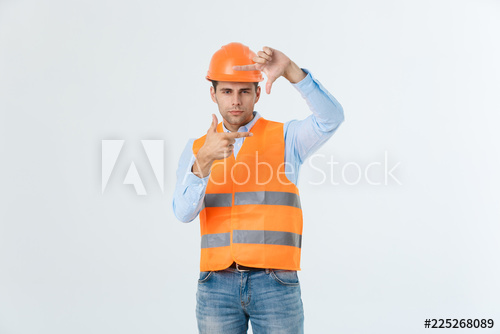Person_wearing_helmet: (201, 40, 276, 99)
